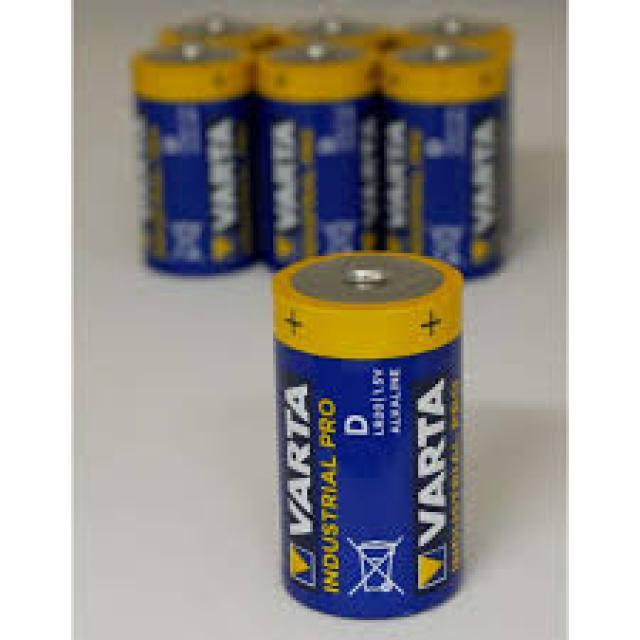Battery: (271, 237, 491, 617), (388, 54, 546, 282), (123, 41, 264, 280), (266, 46, 392, 276)
